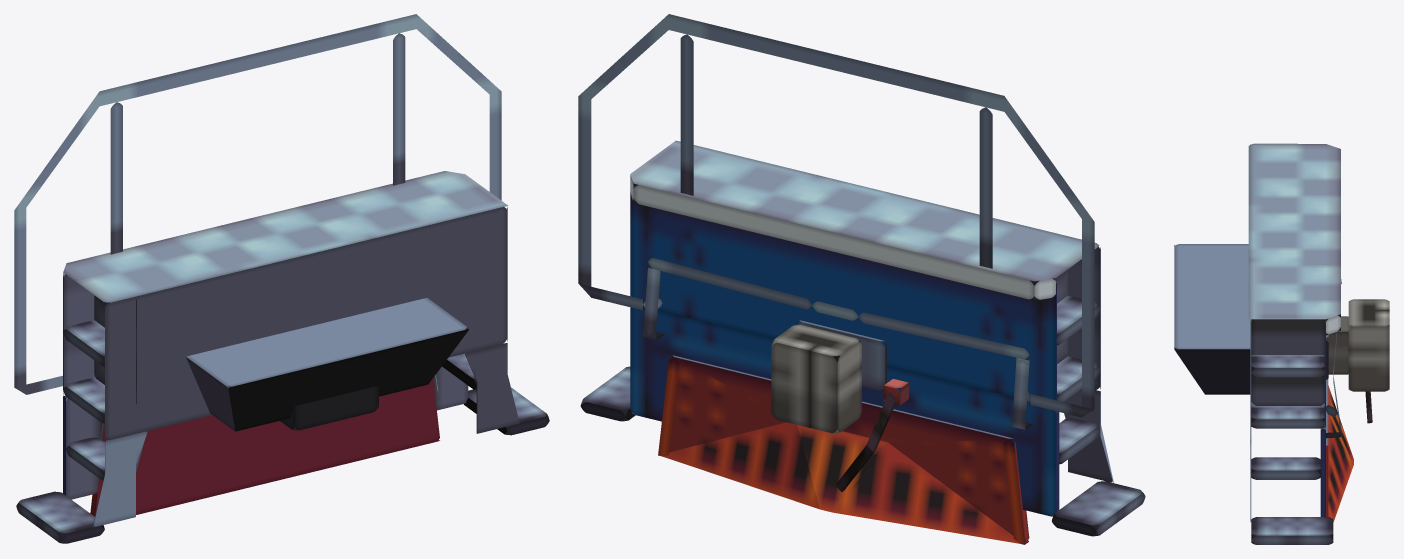
Rendered from df5_cowcatcher.obj.
3 views of the same model, side by side, from view 1: azimuth 30°, elevation 25°; view 2: azimuth 150°, elevation 25°; view 3: azimuth 270°, elevation 25° (orthographic). The views are drawn at different scales.
Visible parts, largest first — view 1: 排障器_selection_selection_selection_selection_selection_selection_; view 2: 排障器_selection_selection_selection_selection_selection_selection_; view 3: 排障器_selection_selection_selection_selection_selection_selection_.
Boxes of the visible parts, <box> form: 排障器_selection_selection_selection_selection_selection_selection_: <box>14,14,549,543</box>; 排障器_selection_selection_selection_selection_selection_selection_: <box>578,14,1145,544</box>; 排障器_selection_selection_selection_selection_selection_selection_: <box>1174,143,1389,544</box>.
Size of the model in its own units: 3.06 by 2.54 by 1.31.
